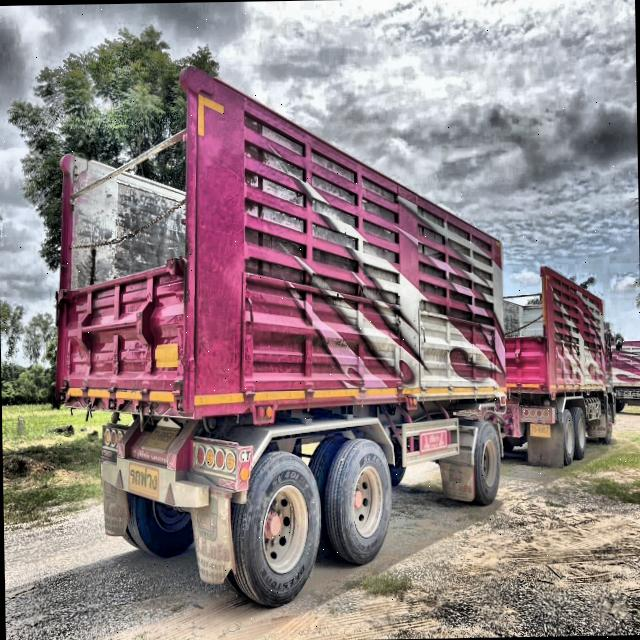trailer: (52, 45, 628, 616)
